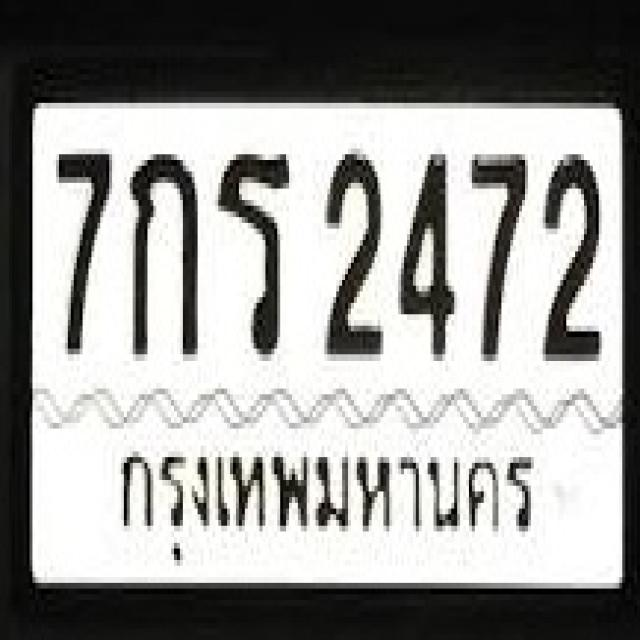license_plate: (14, 61, 640, 634)
